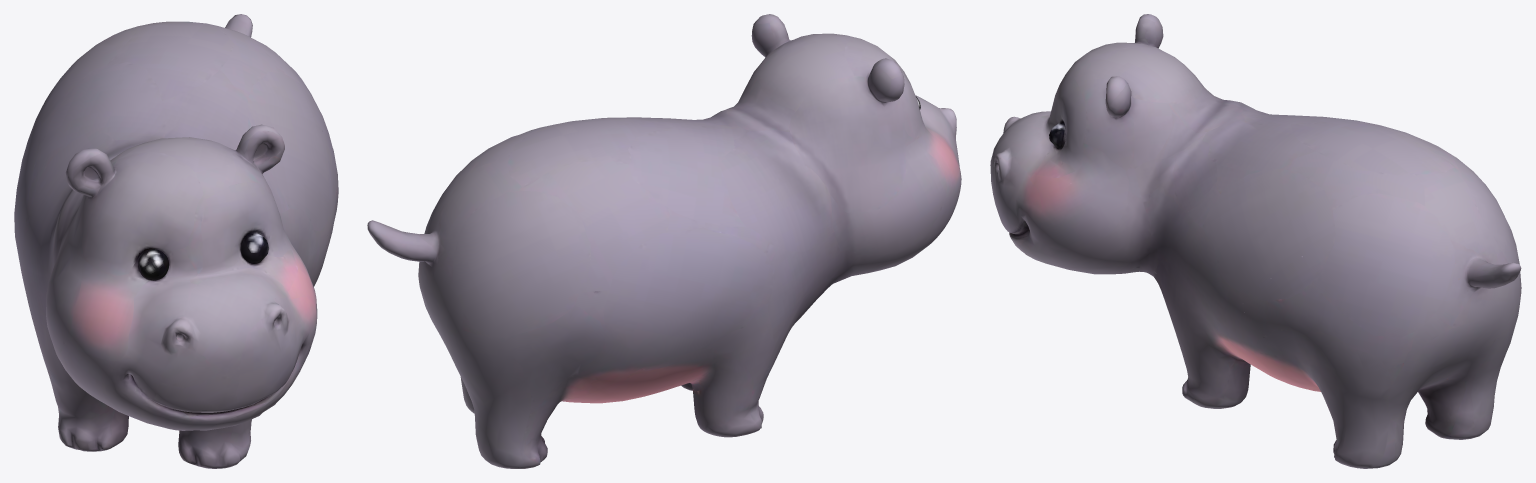
Rendered from animal_hippo.glb.
3 views of the same model, side by side, from view 1: azimuth 30°, elevation 25°; view 2: azimuth 150°, elevation 25°; view 3: azimuth 270°, elevation 25° (orthographic). The views are drawn at different scales.
Visible parts, largest first — view 1: node_0; view 2: node_0; view 3: node_0.
Boxes of the visible parts, left/top/right/bottom form: node_0: left=14, top=14, right=338, bottom=468; node_0: left=367, top=14, right=961, bottom=468; node_0: left=990, top=14, right=1521, bottom=468.
Bounding box in the file's own units: 0.7293 × 0.6222 × 0.9492.
1 material, 1 textured.
